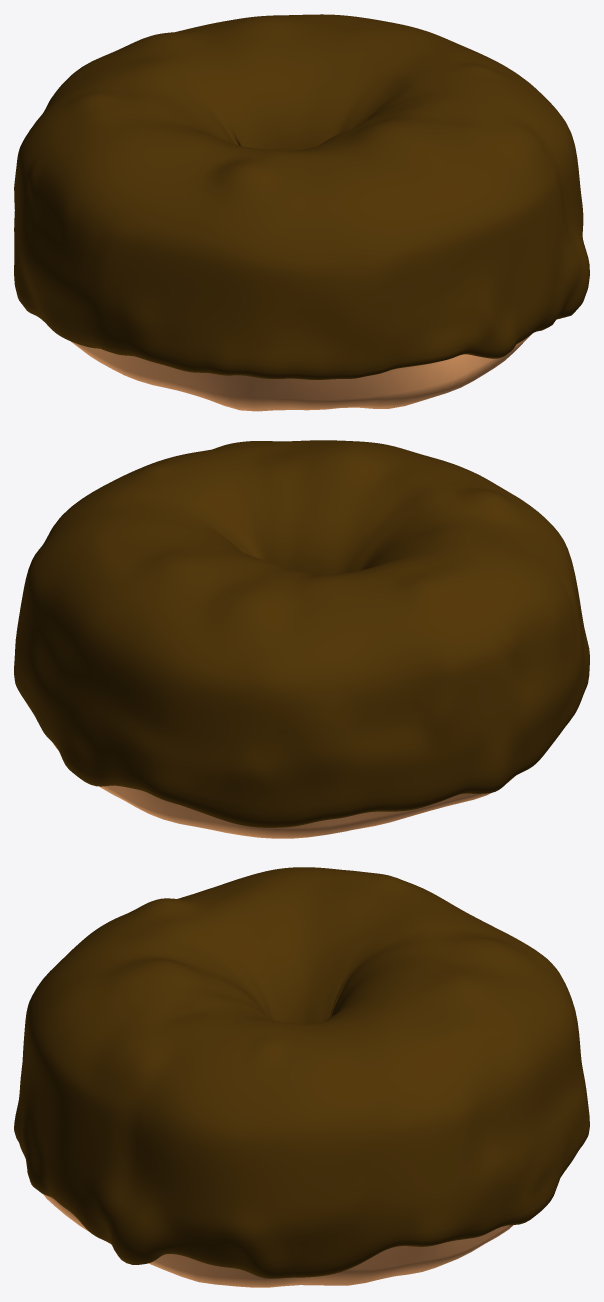
Rendered from donut.glb.
The picture shows the model from 3 angles, top to bottom: view 1: azimuth 30°, elevation 25°; view 2: azimuth 150°, elevation 25°; view 3: azimuth 270°, elevation 25°; orthographic projection.
Visible parts, largest first — view 1: Icing, Donut; view 2: Icing, Donut; view 3: Icing, Donut.
Part boxes in pixels (x1,y1,x2,y2): Icing: (14,14,589,379); Donut: (71,334,531,411); Icing: (14,440,589,827); Donut: (52,742,514,838); Icing: (14,867,589,1278); Donut: (43,1194,513,1287).
Size of what is drawn, in the model's own units: 0.1045 by 0.0494 by 0.1022.
